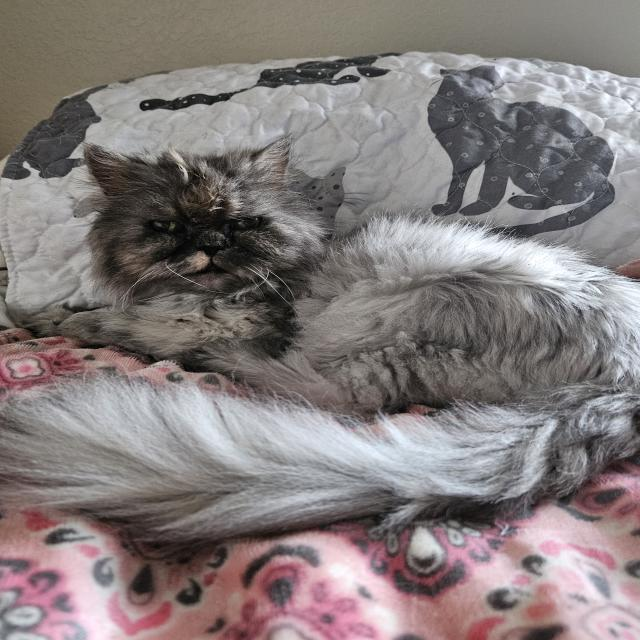persian_cat: (65, 133, 340, 310)
